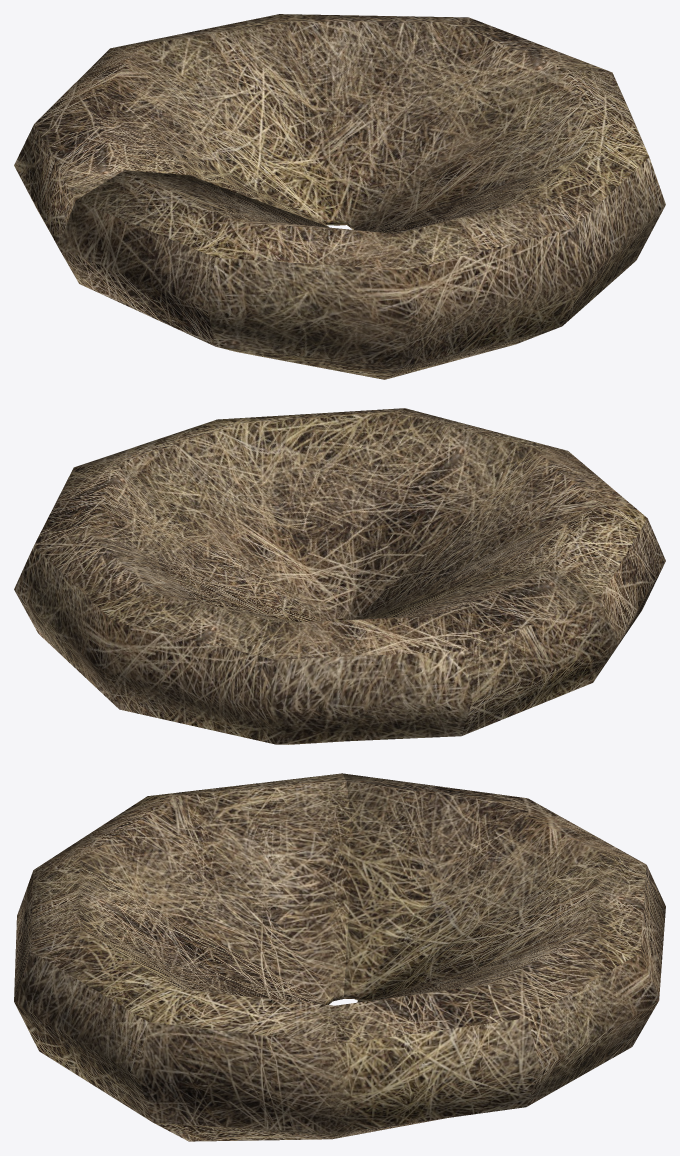
Rendered from DinoNest_01.DAE.
The picture shows the model from 3 angles, top to bottom: view 1: azimuth 30°, elevation 25°; view 2: azimuth 150°, elevation 25°; view 3: azimuth 270°, elevation 25°; orthographic projection. The views are drawn at different scales.
Parts seen in each view (by area): view 1: DinoNest300; view 2: DinoNest300; view 3: DinoNest300.
Boxes of the visible parts, x1,y1,x2,y2 form: DinoNest300: (14,14,665,379); DinoNest300: (14,408,665,744); DinoNest300: (14,773,665,1141).
Size of the model in its own units: 5.2 by 4.97 by 1.47.
